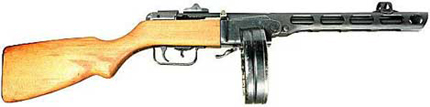rifle: (2, 4, 427, 102)
